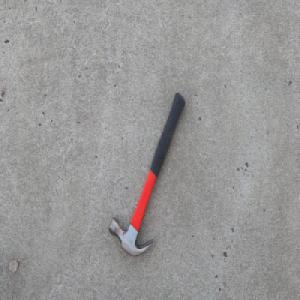Hammer: (108, 91, 186, 257)
